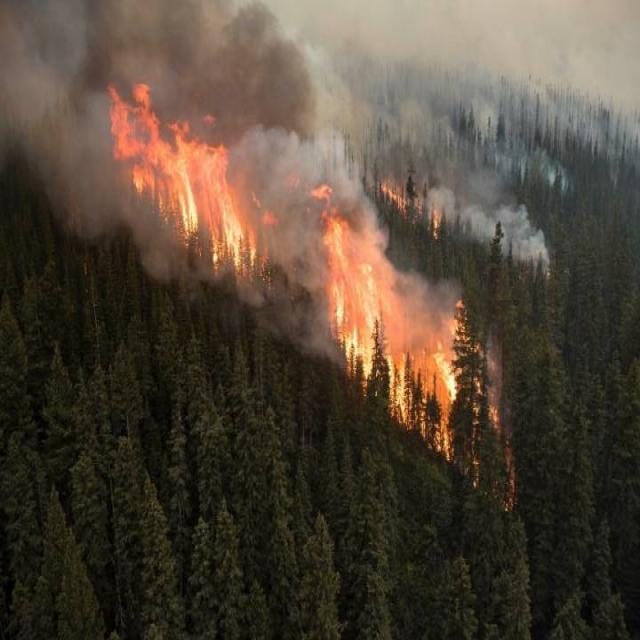Fire: (112, 88, 466, 456)
